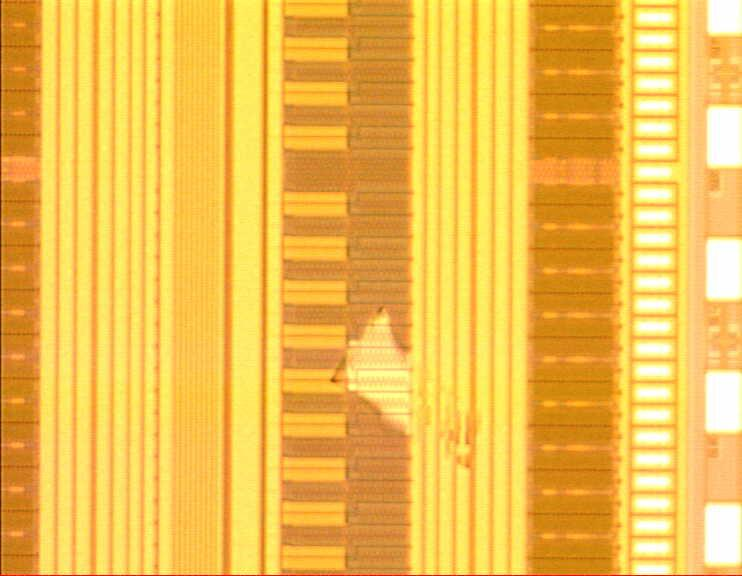BLOCK ETCH: (333, 305, 482, 467)
